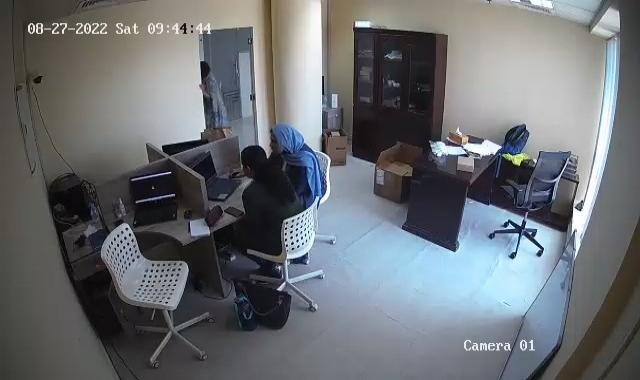no_hairnet: (271, 121, 306, 162), (242, 147, 266, 175), (199, 62, 212, 81)
